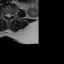CCS_normal: (7, 12, 9, 20)
LFS_normal: (12, 12, 13, 18)
LLS_stenosis: (9, 12, 11, 18)
RFS_normal: (3, 12, 5, 18)
RLS_normal: (5, 12, 7, 18)
